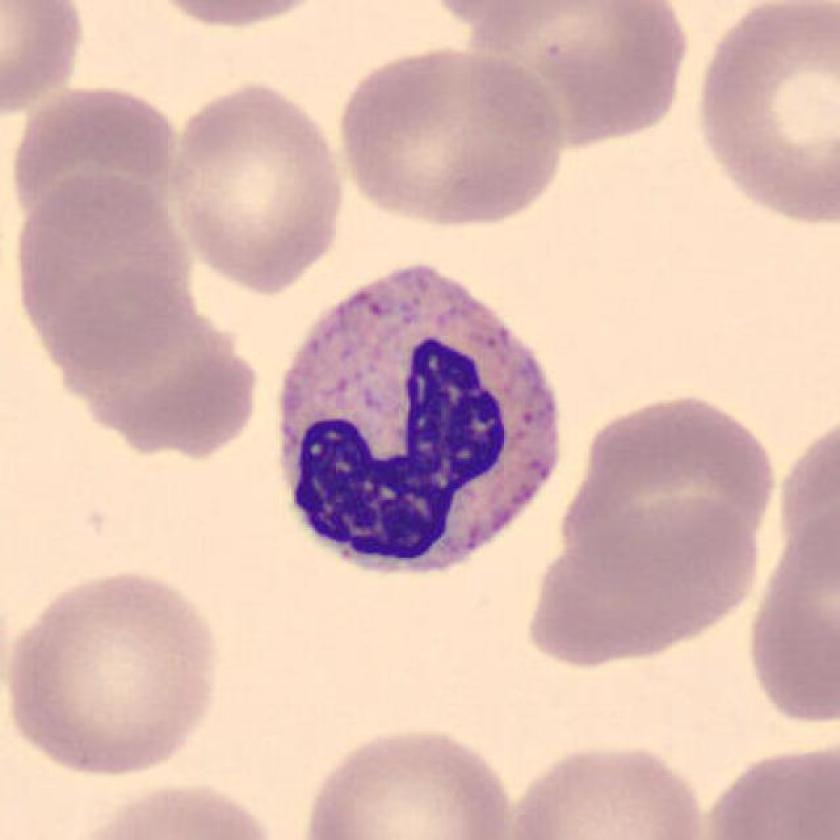neutrophil: (278, 266, 559, 571)
